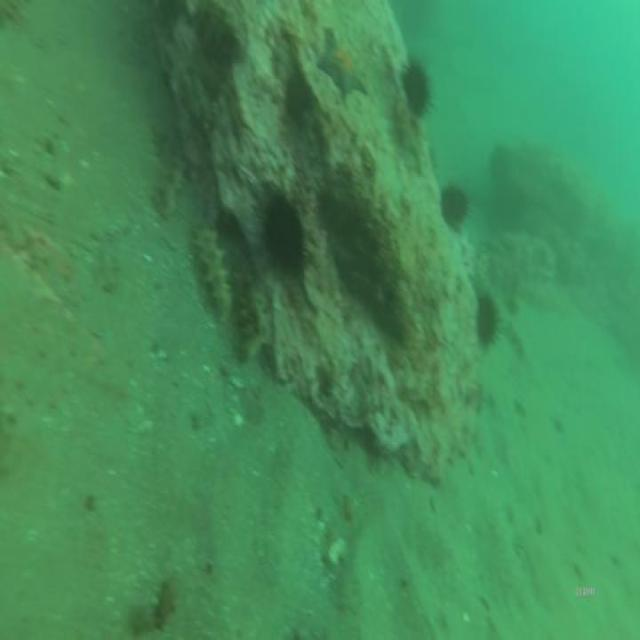echinus: (247, 172, 312, 286), (397, 52, 438, 122), (473, 283, 503, 359), (437, 175, 471, 237)
holothurian: (189, 215, 233, 324), (228, 242, 266, 363), (154, 148, 188, 215)
starfish: (319, 27, 372, 107)
